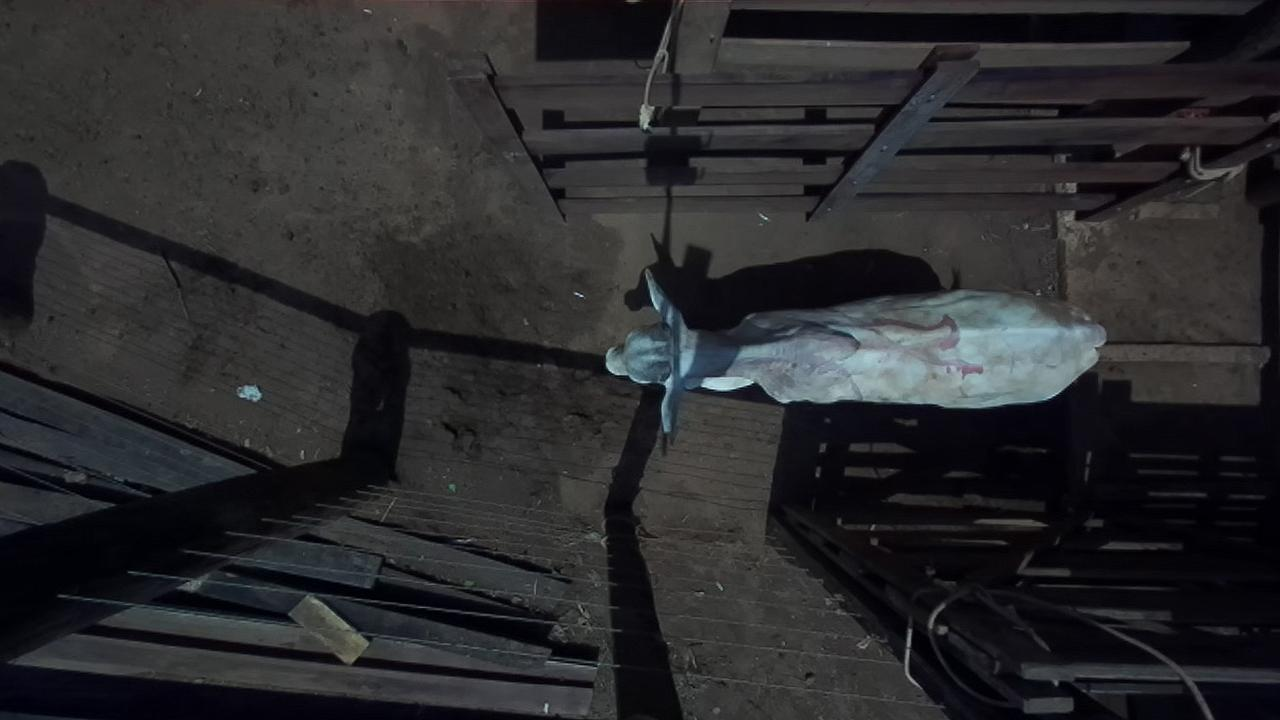cattle: (604, 258, 1113, 455)
